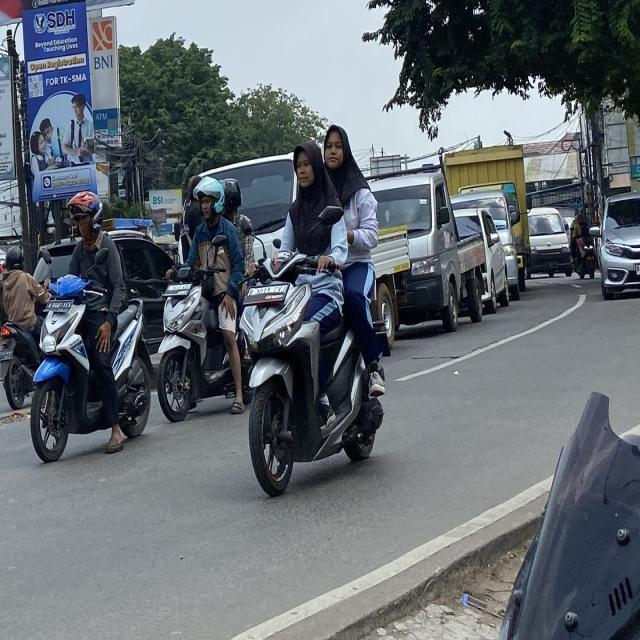Helmet: (68, 191, 103, 232), (194, 177, 224, 213), (222, 178, 241, 212), (5, 247, 23, 270)
Number Plate: (243, 284, 289, 305), (164, 283, 192, 297), (45, 300, 72, 312), (0, 349, 13, 361), (635, 264, 640, 275)
Rearview Mirror: (319, 205, 343, 225), (437, 205, 449, 226), (240, 217, 252, 235), (177, 266, 191, 281), (95, 248, 108, 264), (211, 234, 227, 247), (509, 205, 519, 224), (40, 248, 51, 264), (589, 226, 601, 237), (489, 232, 499, 245), (173, 223, 180, 240), (272, 238, 281, 249), (564, 222, 568, 230)
